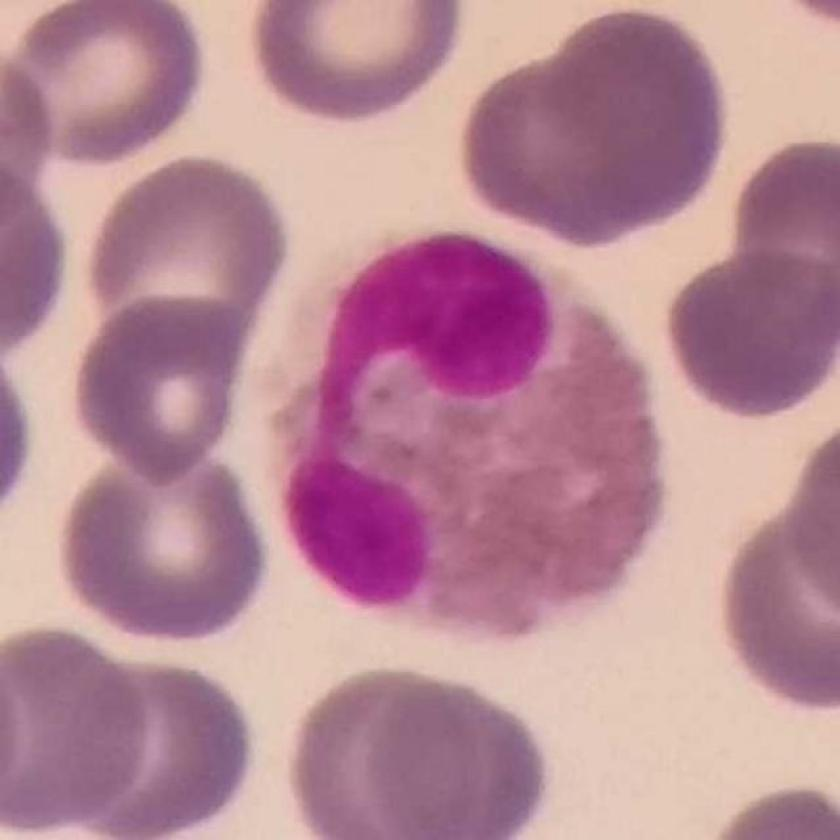eosinophil: (266, 225, 670, 635)
